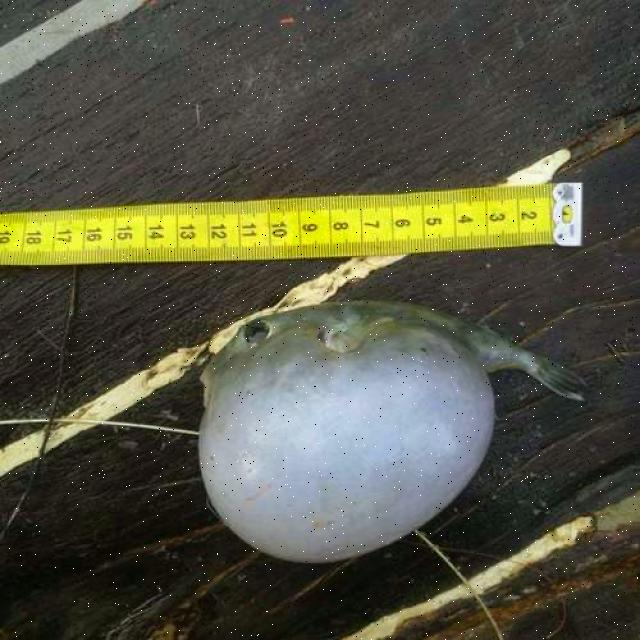Balik: (200, 303, 583, 561)
